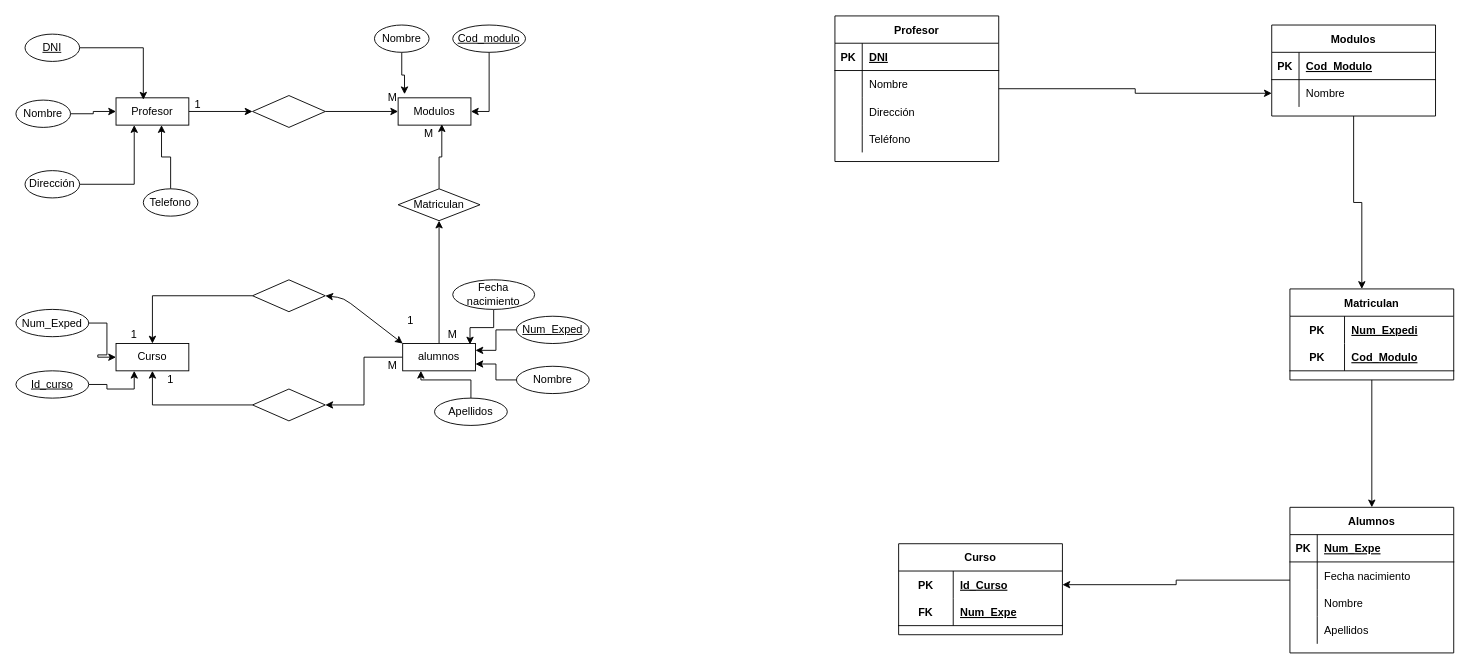
The diagram is 1470 pixels wide and 669 high, and some of its shapes have lost their labels. Here are the shapes that lost their labels. From the top down, the centre of each, then its label:
At (288,111): "imparten".
At (288,295): "Delega".
At (288,404): "Pertenecen".
